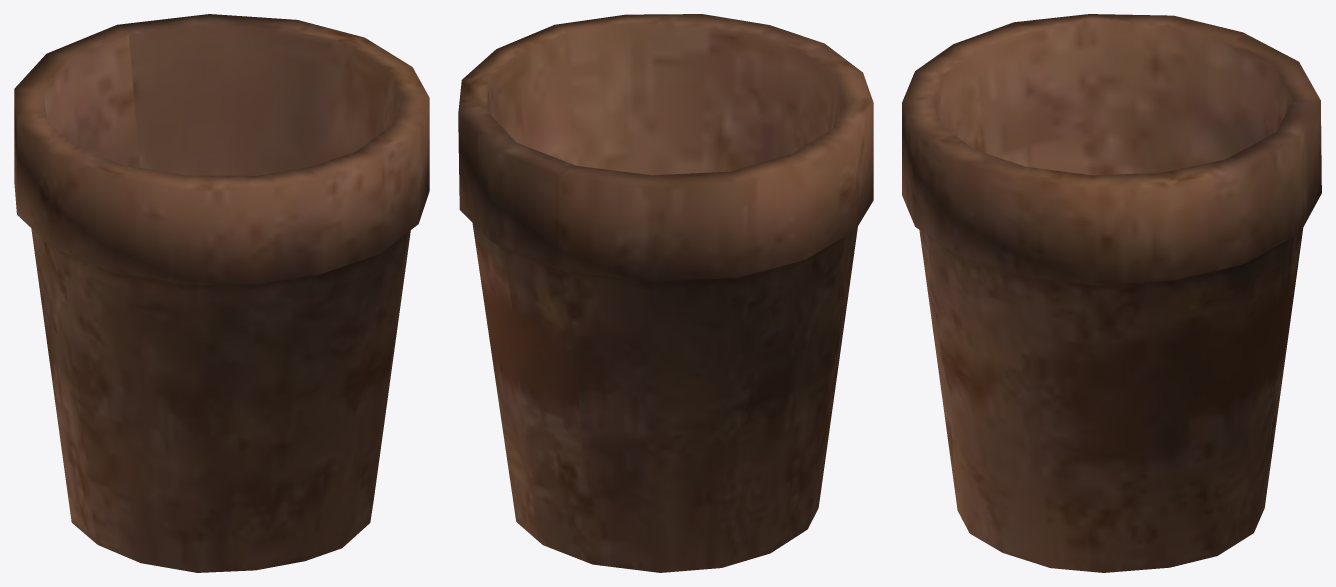
Rendered from plantpot.glb.
3 renders of one model, left to right at view 1: azimuth 30°, elevation 25°; view 2: azimuth 150°, elevation 25°; view 3: azimuth 270°, elevation 25°, orthographic.
Visible parts, largest first — view 1: plantpot; view 2: plantpot; view 3: plantpot.
Part boxes in pixels (x1=…): plantpot: x1=14, y1=14, x2=429, y2=572; plantpot: x1=458, y1=14, x2=873, y2=572; plantpot: x1=902, y1=14, x2=1321, y2=572.
Size of the model in its own units: 0.3627 by 0.3994 by 0.3647.
1 material, 1 textured.
